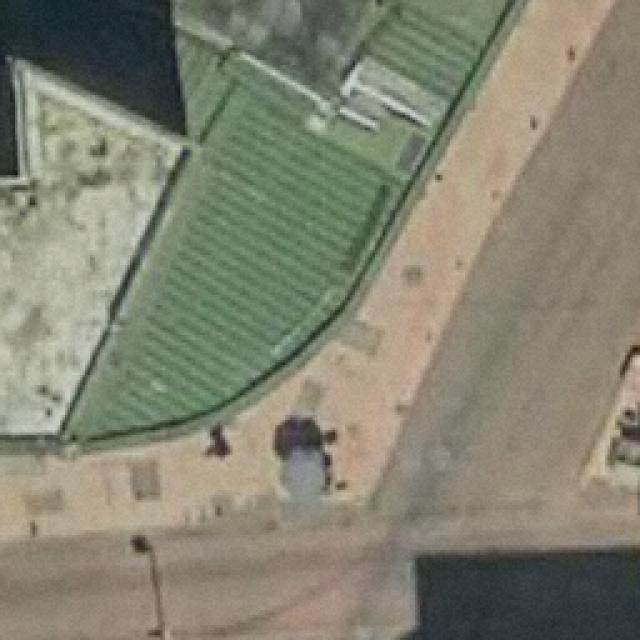vendedor_ambulante: (275, 438, 334, 503)
